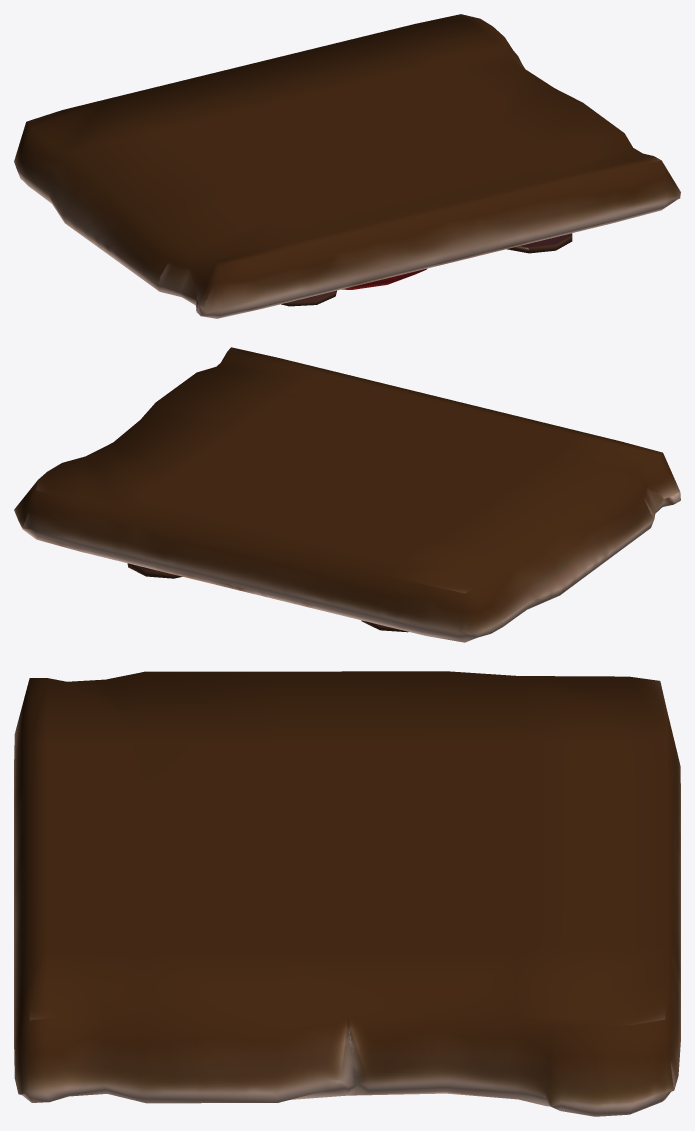
Rendered from boton tiempo.fbx.
3 renders of one model, top to bottom at view 1: azimuth 30°, elevation 25°; view 2: azimuth 150°, elevation 25°; view 3: azimuth 270°, elevation 25°, orthographic. The views are drawn at different scales.
Visible parts, largest first — view 1: base; view 2: base; view 3: base.
Boxes of the visible parts, <box> form: base: <box>14,14,680,318</box>; base: <box>14,347,680,642</box>; base: <box>14,671,680,1116</box>.
Size of the model in its own units: 115 by 24.8 by 82.51.
Materials: 2 (2 with a texture image).
